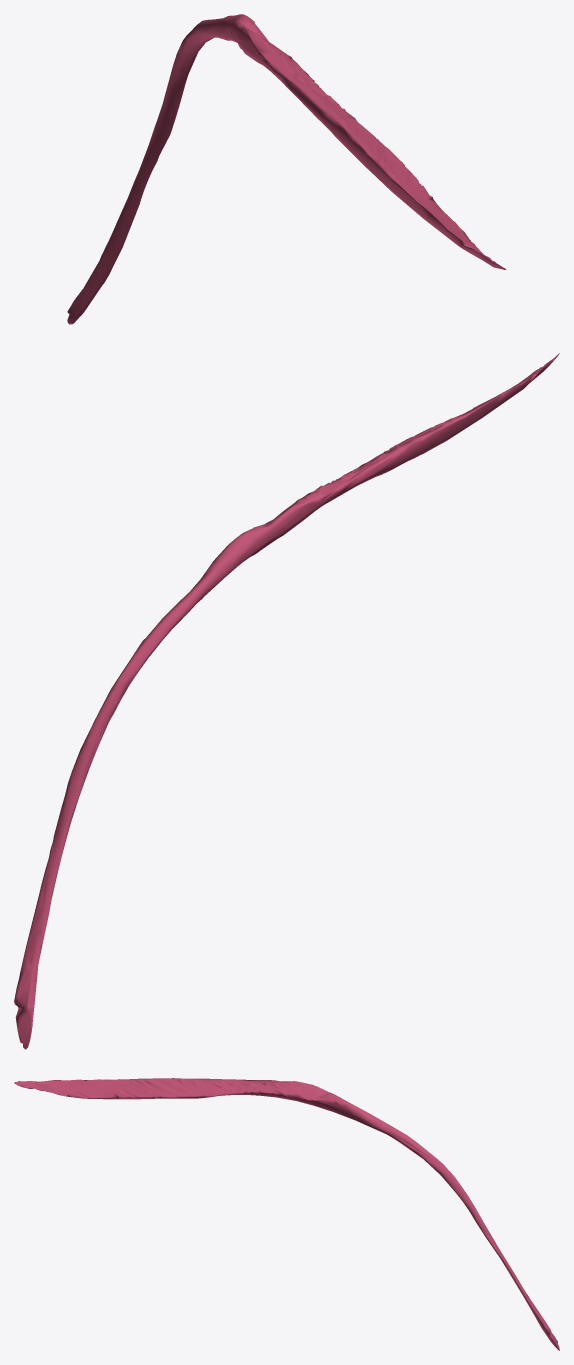
3 renders of one model, top to bottom at view 1: azimuth 30°, elevation 25°; view 2: azimuth 150°, elevation 25°; view 3: azimuth 270°, elevation 25°, orthographic. The views are drawn at different scales.
Parts seen in each view (by area): view 1: 右侧踇长伸肌; view 2: 右侧踇长伸肌; view 3: 右侧踇长伸肌.
Boxes of the visible parts, x1,y1,x2,y2 form: 右侧踇长伸肌: [67, 14, 506, 324]; 右侧踇长伸肌: [14, 353, 559, 1049]; 右侧踇长伸肌: [14, 1078, 559, 1350].
Size of the model in its own units: 0.0629 by 0.2088 by 0.4133.
